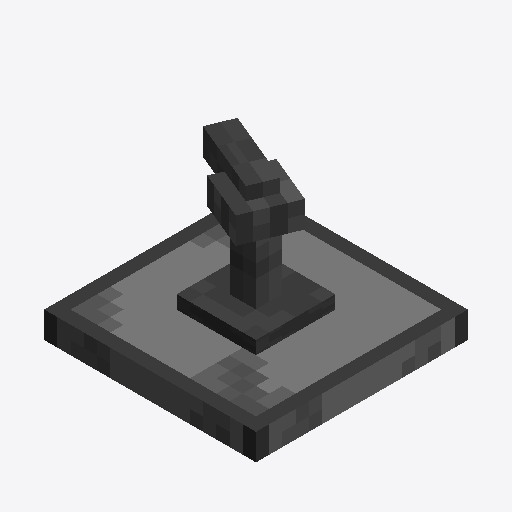
Isometric view (azimuth 45°, elevation 35.3°) of a Minecraft model made of 6 cuboids, textured from the same repository.
Visible parts, largest first — plateau, porteur, capuchon, pilier, tube, bouchon.
Boxes of the visible parts, <box> form: plateau: <box>44,213,467,461</box>; porteur: <box>177,264,334,354</box>; capuchon: <box>207,159,304,245</box>; pilier: <box>230,235,281,308</box>; tube: <box>203,118,265,180</box>; bouchon: <box>232,158,279,200</box>.
Bounding box in the file's own units: 16 × 11 × 16.